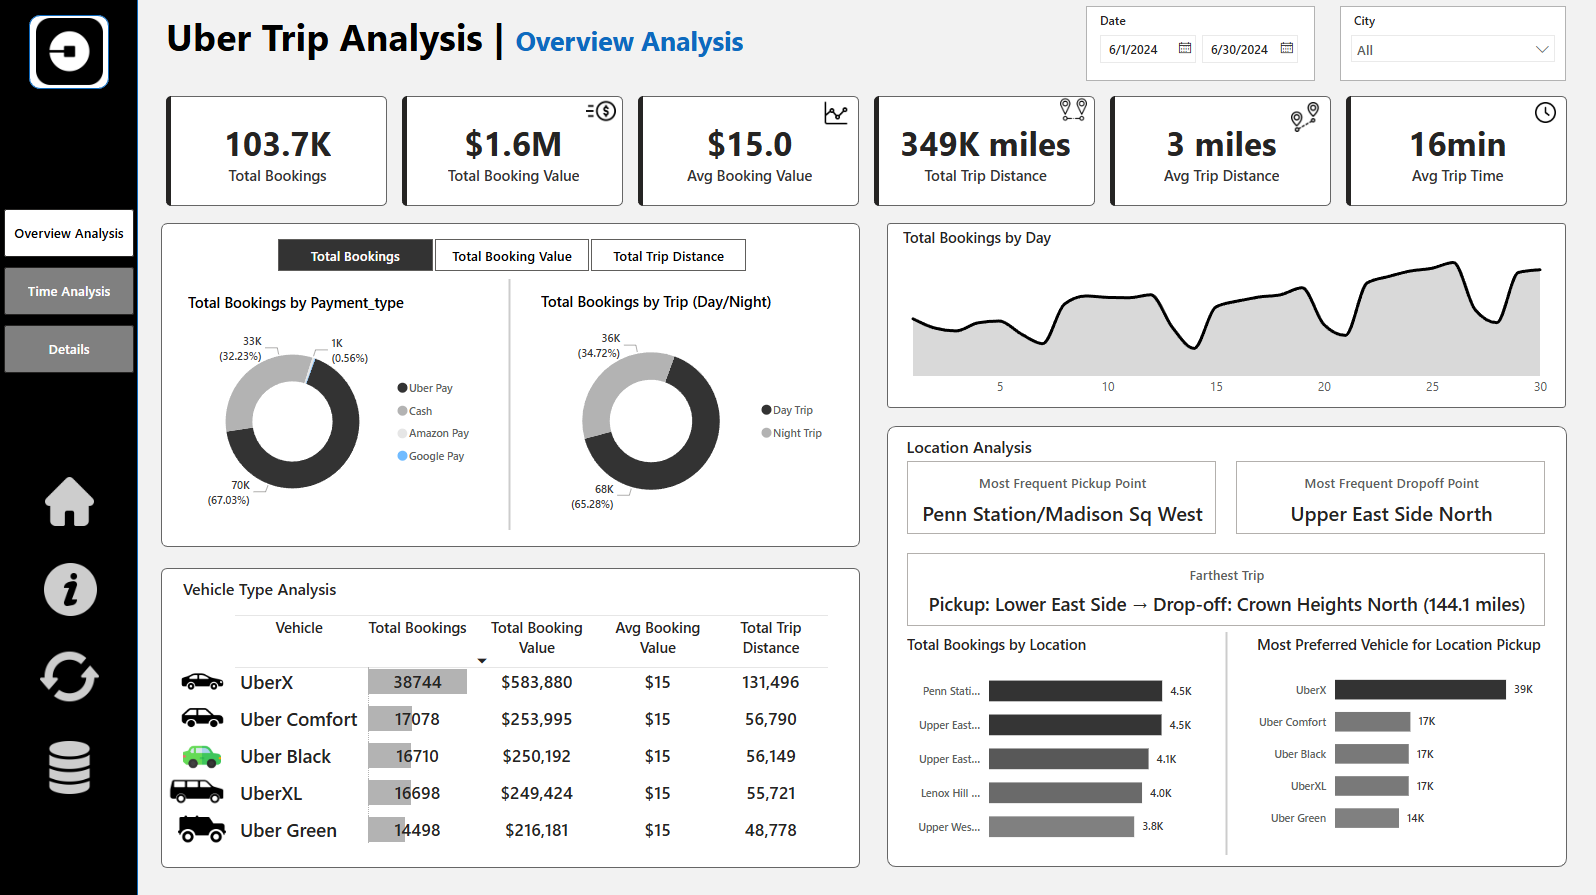

The page's visual inventory and layout, read from the dashboard file:
{"tool":"powerbi","page":{"name":"Overview Analysis","canvas":[1600,900],"ordinal":0},"visuals":[{"type":"shape","box":[0,0,139.4,900],"z":0},{"type":"shape","box":[30,16.2,79.9,74.9],"z":0,"group":"g1"},{"type":"image","box":[31.3,14.7,77.4,77.4],"z":1000,"group":"g1"},{"type":"textbox","box":[161.8,7.9,774.2,64],"z":1000},{"type":"cardVisual","fields":{"Data":["Trip Details.Total Bookings","Trip Details.Total Booking Amount","Trip Details.Avg Booking Amount","Trip Details.Total Trip Distance","Trip Details.Avg Trip Distance","Trip Details.Avg Trip Time"]},"box":[162,93,1415,120],"z":2000},{"type":"image","box":[578.7,93.3,46.1,39.3],"z":3000},{"type":"image","box":[1280.9,98.9,51.7,40.4],"z":4000},{"type":"image","box":[988.8,93.3,170.8,37.1],"z":5000},{"type":"image","box":[1525.8,98.9,41.6,31.5],"z":6000},{"type":"image","box":[812.4,96.6,49.4,36],"z":7000},{"type":"shape","box":[161.8,224.7,699,324.7],"z":8000},{"type":"slicer","fields":{"Values":["Dynamic Measure.Dynamic Measure"]},"box":[252.8,233.7,518,46.1],"z":9000},{"type":"donutChart","fields":{"Y":["Trip Details.Total Bookings"],"Category":["Trip Details.Payment_type"]},"box":[184.3,294.4,300,239],"z":10000},{"type":"donutChart","fields":{"Y":["Trip Details.Total Bookings"],"Category":["Trip Details.Trip Type (Day/Night)"]},"box":[537.1,293.3,300,239.3],"z":11000},{"type":"shape","box":[161.8,569.7,698.9,300],"z":12000},{"type":"pivotTable","fields":{"Rows":["Trip Details.Vehicle"],"Values":["Trip Details.Total Bookings","Trip Details.Total Booking Value","Trip Details.Avg Booking Value","Trip Details.Total Trip Distance Measure"]},"box":[231.5,612.4,610.1,244.9],"z":13000},{"type":"image","box":[161.3,654.9,83.5,57],"z":14000},{"type":"image","box":[138.1,693,129.9,52.8],"z":15000},{"type":"image","box":[130.1,735.2,145.8,47.5],"z":16000},{"type":"image","box":[130.5,759,134.8,69],"z":17000},{"type":"image","box":[88.9,801.8,228.2,58.1],"z":18000},{"type":"card","fields":{"Values":["Trip Details.Title for Grid"]},"box":[78.7,569.7,362.9,46.1],"z":19000},{"type":"shape","box":[887.6,224.7,679.8,185.4],"z":20000},{"type":"areaChart","fields":{"Category":["Calendar Table.Date.Variation.Date Hierarchy.Day"],"Y":["Trip Details.Total Bookings"]},"box":[898.9,229.2,657.3,177.5],"z":21000},{"type":"shape","box":[888.4,428,679.2,441],"z":22000},{"type":"cardVisual","fields":{"Data":["Trip Details.Most Frequent Pickup Point","Trip Details.Most Frequent Dropoff Point"]},"box":[903.1,457.9,647.8,83],"z":23000},{"type":"cardVisual","fields":{"Data":["Trip Details.Farthest Trip"]},"box":[903.1,549.7,647.8,83],"z":24000},{"type":"barChart","fields":{"Category":["Location Table.Location"],"Y":["Trip Details.Total Bookings"]},"box":[903.1,636.5,298.1,222.6],"z":25000},{"type":"barChart","title":"Most Preferred Vehicle for Location Pickup","fields":{"Category":["Trip Details.Vehicle"],"Y":["CountNonNull(Trip Details.PULocationID)"]},"box":[1252.8,636.5,294.3,212.6],"z":26000},{"type":"shape","box":[493.1,280.5,35.2,251.6],"z":27000},{"type":"shape","box":[1210.1,634,35.2,222.6],"z":28000},{"type":"card","fields":{"Values":["Trip Details.Title for Location"]},"box":[873,427.7,193.7,45.3],"z":29000},{"type":"slicer","fields":{"Values":["Calendar Table.Date"]},"box":[1086.8,7.5,228.9,75.5],"z":30000},{"type":"slicer","fields":{"Values":["Location Table.City"]},"box":[1340.9,7.5,226.4,75.5],"z":31000},{"type":"group","id":"g1","title":"Group 1","box":[30,14.7,79.9,77.4],"z":32000},{"type":"pageNavigator","box":[5,210.9,129.8,164.7],"z":33000},{"type":"image","box":[34.9,474.3,71.1,58.7],"z":34000},{"type":"image","box":[31.2,560.4,79.9,62.4],"z":35000},{"type":"image","box":[32.4,644,76.1,68.6],"z":36000},{"type":"image","box":[34.9,737.6,71.1,63.7],"z":37000}]}

Visuals, with their boxes in screenshot pixels (x1, y1, x2, y2), scaled from the page's 1600x900 canvas onto the 1596x895 screenshot:
shape: x1=0 y1=0 x2=139 y2=894
shape: x1=30 y1=16 x2=110 y2=91
image: x1=31 y1=15 x2=108 y2=92
textbox: x1=161 y1=8 x2=934 y2=72
cardVisual - Trip Details.Total Bookings x Trip Details.Total Booking Amount: x1=162 y1=92 x2=1573 y2=212
image: x1=577 y1=93 x2=623 y2=132
image: x1=1278 y1=98 x2=1329 y2=139
image: x1=986 y1=93 x2=1157 y2=130
image: x1=1522 y1=98 x2=1563 y2=130
image: x1=810 y1=96 x2=860 y2=132
shape: x1=161 y1=223 x2=859 y2=546
slicer - Dynamic Measure.Dynamic Measure: x1=252 y1=232 x2=769 y2=278
donutChart - Trip Details.Total Bookings x Trip Details.Payment_type: x1=184 y1=293 x2=483 y2=530
donutChart - Trip Details.Total Bookings x Trip Details.Trip Type (Day/Night): x1=536 y1=292 x2=835 y2=530
shape: x1=161 y1=567 x2=859 y2=865
pivotTable - Trip Details.Vehicle x Trip Details.Total Bookings: x1=231 y1=609 x2=839 y2=853
image: x1=161 y1=651 x2=244 y2=708
image: x1=138 y1=689 x2=267 y2=742
image: x1=130 y1=731 x2=275 y2=778
image: x1=130 y1=755 x2=265 y2=823
image: x1=89 y1=797 x2=316 y2=855
card - Trip Details.Title for Grid: x1=79 y1=567 x2=440 y2=612
shape: x1=885 y1=223 x2=1563 y2=408
areaChart - Calendar Table.Date.Variation.Date Hierarchy.Day x Trip Details.Total Bookings: x1=897 y1=228 x2=1552 y2=404
shape: x1=886 y1=426 x2=1564 y2=864
cardVisual - Trip Details.Most Frequent Pickup Point x Trip Details.Most Frequent Dropoff Point: x1=901 y1=455 x2=1547 y2=538
cardVisual - Trip Details.Farthest Trip: x1=901 y1=547 x2=1547 y2=629
barChart - Location Table.Location x Trip Details.Total Bookings: x1=901 y1=633 x2=1198 y2=854
"Most Preferred Vehicle for Location Pickup" barChart: x1=1250 y1=633 x2=1543 y2=844
shape: x1=492 y1=279 x2=527 y2=529
shape: x1=1207 y1=630 x2=1242 y2=852
card - Trip Details.Title for Location: x1=871 y1=425 x2=1064 y2=470
slicer - Calendar Table.Date: x1=1084 y1=7 x2=1312 y2=83
slicer - Location Table.City: x1=1338 y1=7 x2=1563 y2=83
"Group 1" group: x1=30 y1=15 x2=110 y2=92
pageNavigator: x1=5 y1=210 x2=134 y2=374
image: x1=35 y1=472 x2=106 y2=530
image: x1=31 y1=557 x2=111 y2=619
image: x1=32 y1=640 x2=108 y2=709
image: x1=35 y1=734 x2=106 y2=797
